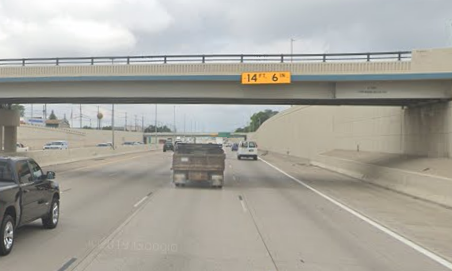1: (245, 72, 251, 84)
4: (249, 73, 259, 83)
6: (270, 72, 279, 83)
overheadsign: (240, 71, 292, 84)
